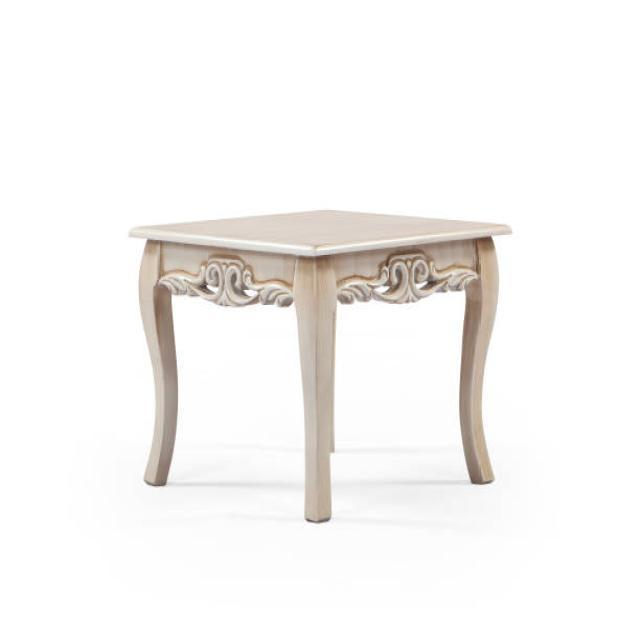table: (126, 208, 512, 522)
